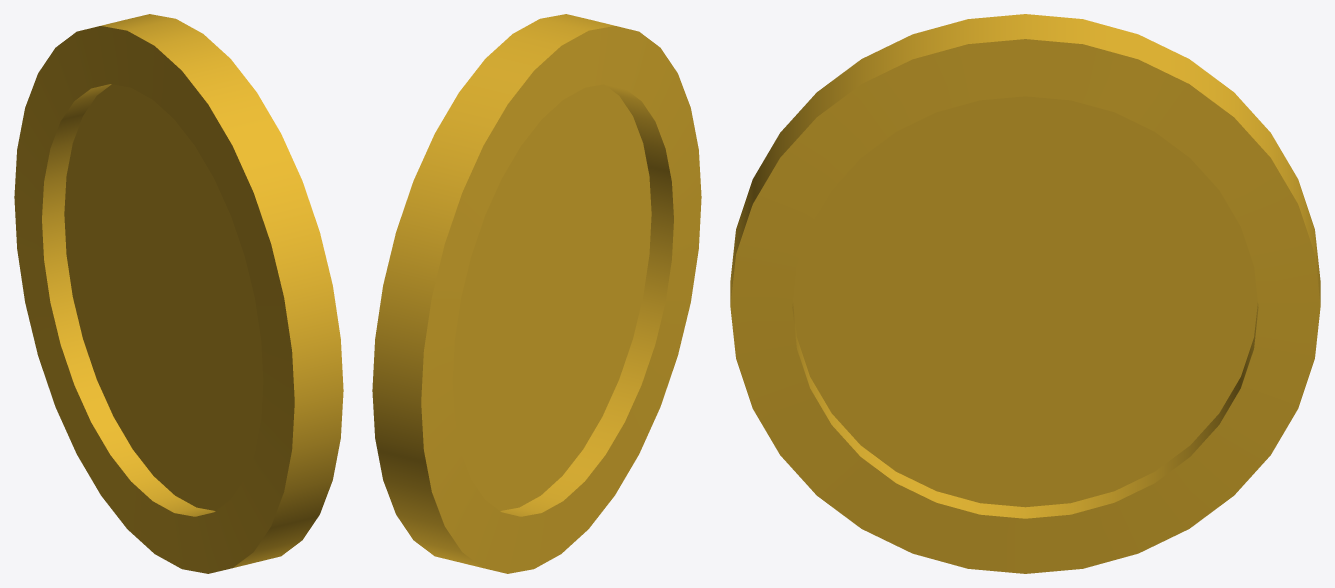
File: money 1.fbx
The picture shows the model from 3 angles, left to right: view 1: azimuth 30°, elevation 25°; view 2: azimuth 150°, elevation 25°; view 3: azimuth 270°, elevation 25°; orthographic projection. The views are drawn at different scales.
Visible parts, largest first — view 1: Cylinder; view 2: Cylinder; view 3: Cylinder.
Part boxes in pixels (<box>): Cylinder: <box>14,14,343,573</box>; Cylinder: <box>372,14,701,573</box>; Cylinder: <box>730,14,1320,573</box>.
Bounding box in the file's own units: 21.7 × 200 × 200.
